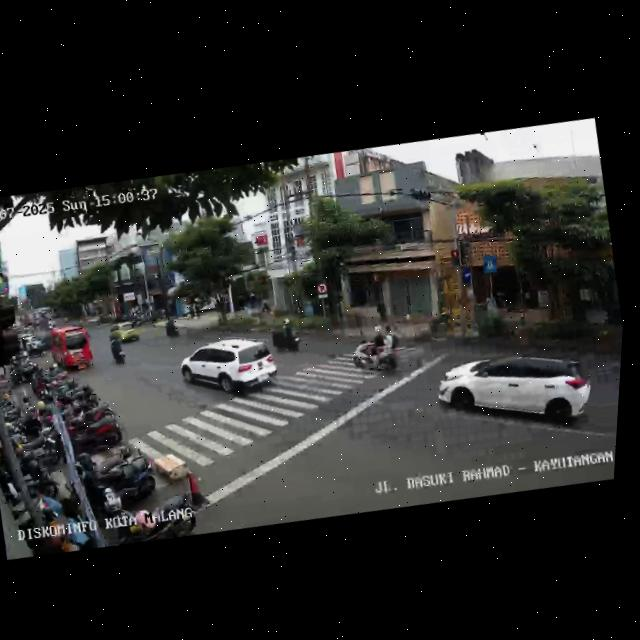car: (429, 334, 600, 453), (172, 325, 284, 408), (43, 321, 97, 378), (105, 318, 143, 348)
motorcycle: (346, 322, 407, 380), (267, 315, 306, 358), (106, 331, 131, 370)
